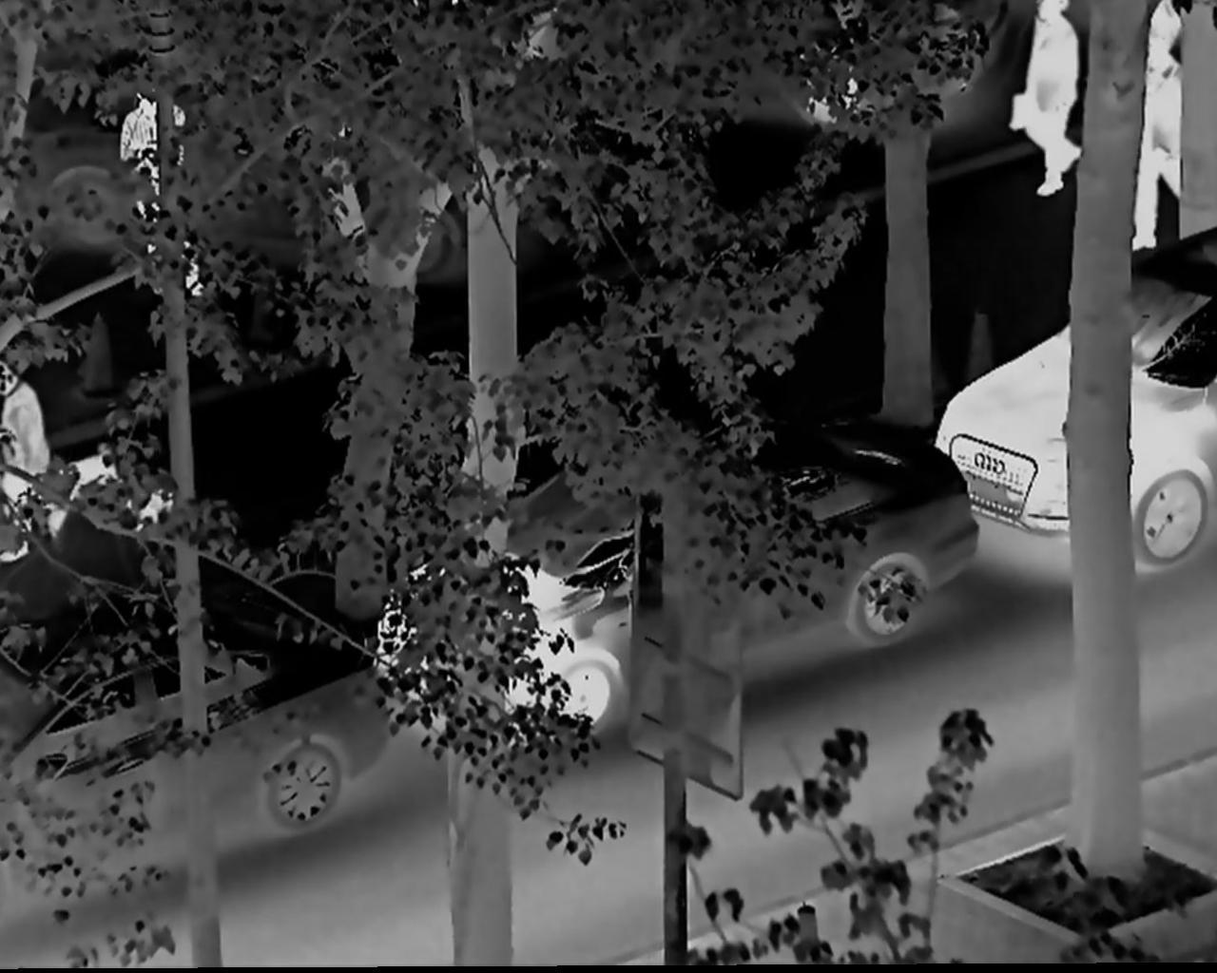person: (118, 88, 203, 301), (1012, 5, 1086, 200), (3, 360, 51, 540)
